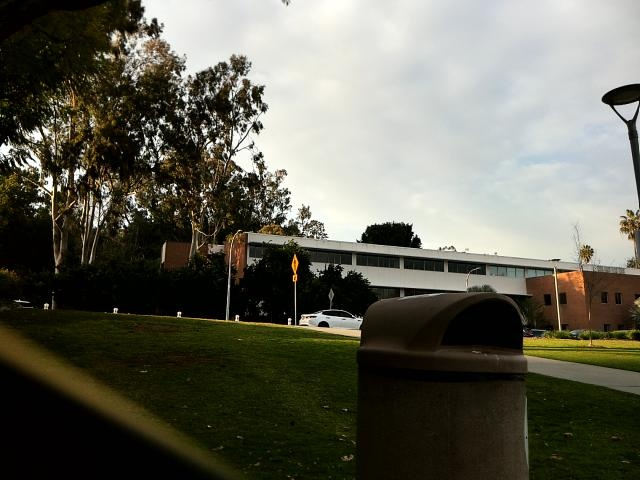trashcan: (342, 284, 570, 480)
